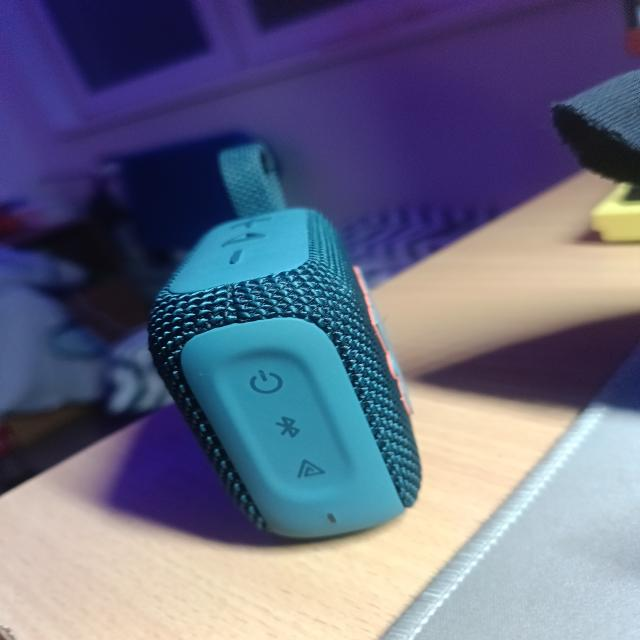column JBL: (145, 124, 425, 536)
